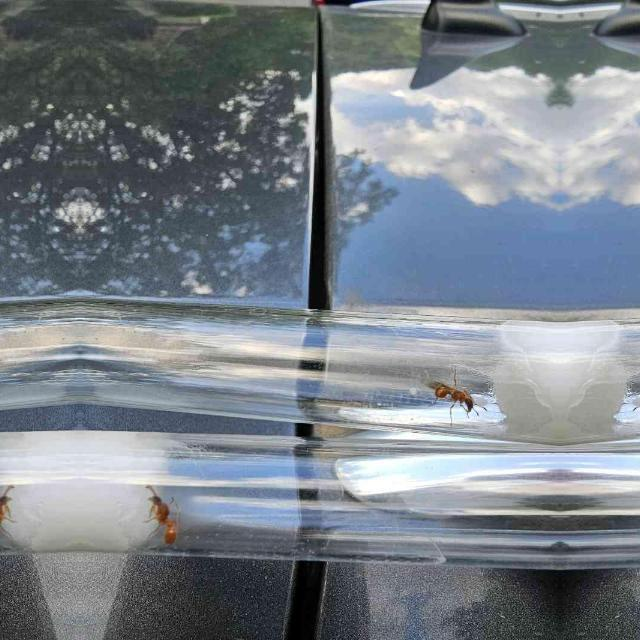Myrmica: (424, 374, 474, 416), (148, 497, 180, 547), (0, 497, 10, 547)
